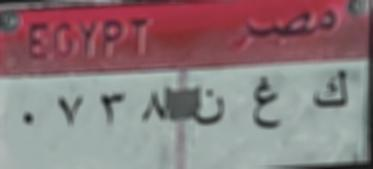0: (19, 108, 39, 126)
3: (99, 90, 126, 130)
7: (51, 92, 86, 128)
8: (140, 86, 168, 126)
ghayn: (250, 74, 284, 134)
kaaf: (307, 69, 352, 115)
noon: (190, 87, 226, 134)
